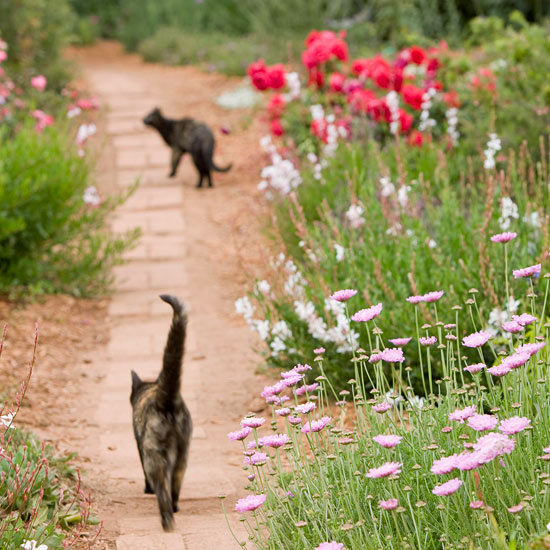cat: (129, 291, 192, 534), (142, 106, 236, 191)
